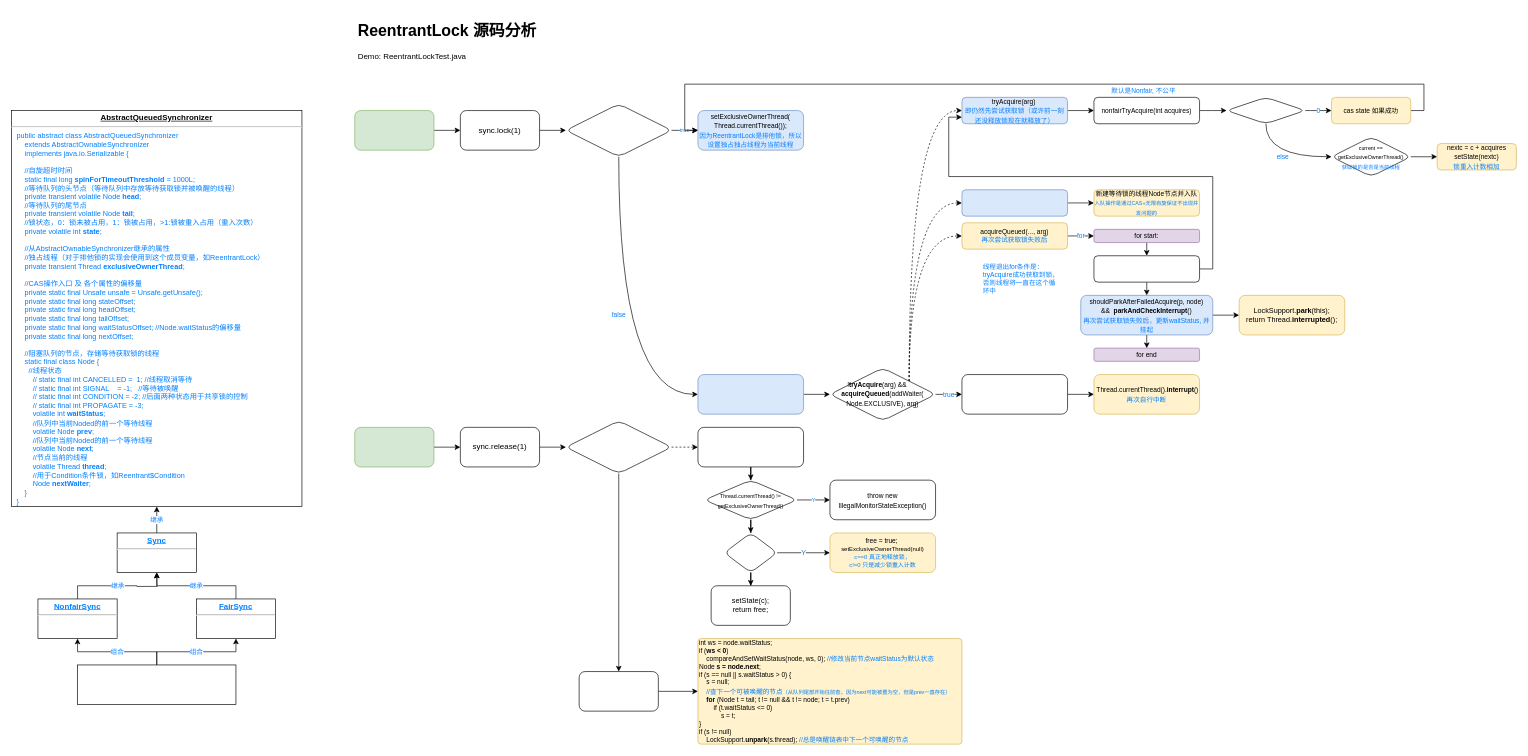
This 1528x756 diagram has some shape labels left out. The shapes that lost their labels are listed below. From the top down, each one's centre as x and y in pixels, then its label:
the point at 394,130: lock()
the point at 618,130: compareAndSetState(0, 1) cas锁状态, 未被占用的话 就设置为被占用
the point at 1265,110: c = getState()
the point at 1014,202: addWaiter( Node.EXCLUSIVE) 再次尝试获取锁失败后,新建Node并入队
the point at 1146,268: 再次尝试获取锁
the point at 750,394: acquire(1) 主要是再尝试下获取锁，失败后就挂起当前线程，等待被唤醒
the point at 1014,394: selfInterrupt() 线程跳出for循环走到这里一定是 线程被中断并tryAcquire成功
the point at 394,447: unlock()
the point at 618,447: tryRelease(arg)
the point at 750,447: c = getState() - releases 锁占用状态（重入计数）
the point at 750,552: c == 0
the point at 156,684: ReentrantLock Sync sync; //NonfairSync or FairSync
the point at 618,691: if (h != null && h.waitStatus != 0) unparkSuccessor (h)
